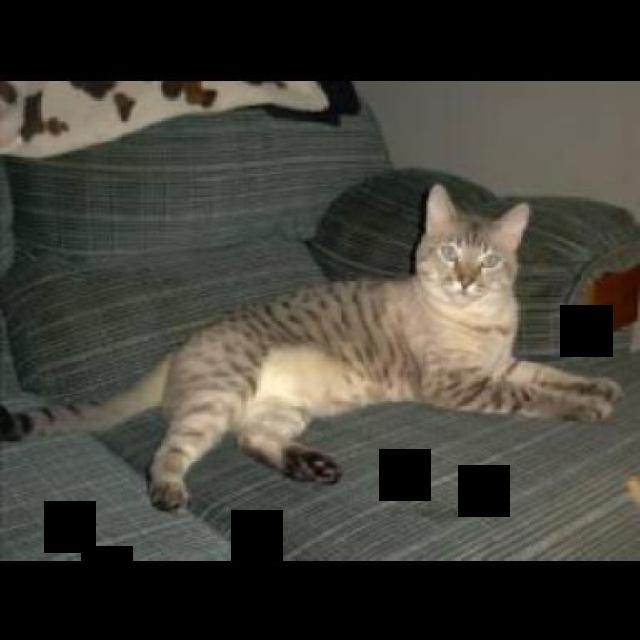unauthorized: (0, 181, 623, 514)
